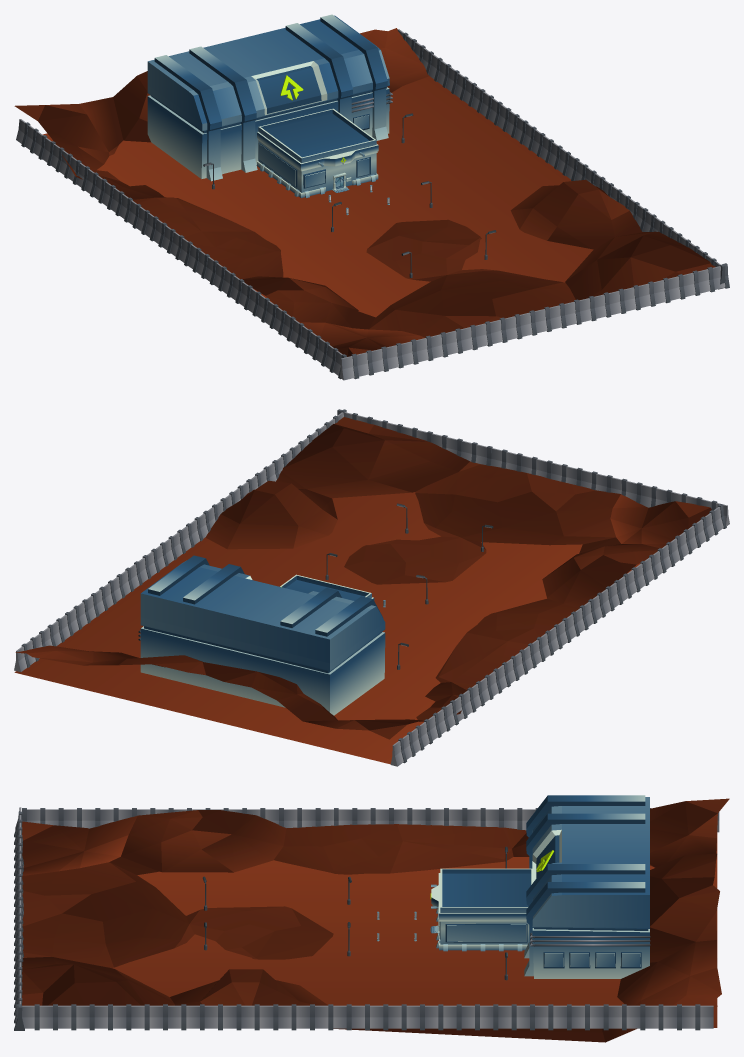
Rendered from Basural_V1.fbx.
3 renders of one model, top to bottom at view 1: azimuth 30°, elevation 25°; view 2: azimuth 150°, elevation 25°; view 3: azimuth 270°, elevation 25°, orthographic. The views are drawn at different scales.
Parts seen in each view (by area): view 1: Plane.014, Plane.068, Cube.089, Cube.087, Cube.047, Cube.090, Cube.088, Cube.058, Cube.059, Cube.081, Cube.096; view 2: Plane.014, Plane.068, Cube.089, Cube.047, Cube.090, Cube.087, Cube.058, Cube.059, Cube.088; view 3: Plane.014, Plane.068, Cube.090, Cube.089, Cube.047, Cube.088, Cube.058, Cube.059, Cube.087, Cube.048, Cube.081, Cube.085.
Part boxes in pixels (box(x1,y1,x2,y2)): Plane.014: box(14, 28, 715, 356); Plane.068: box(42, 76, 593, 317); Cube.089: box(147, 15, 389, 178); Cube.087: box(340, 263, 729, 380); Cube.047: box(16, 119, 346, 379); Cube.090: box(397, 29, 725, 289); Cube.088: box(258, 108, 376, 192); Cube.058: box(154, 14, 388, 181); Cube.059: box(189, 23, 352, 172); Cube.081: box(257, 131, 378, 171); Cube.096: box(258, 142, 297, 187); Plane.014: box(15, 417, 711, 739); Plane.068: box(14, 492, 640, 764); Cube.089: box(140, 560, 385, 715); Cube.047: box(390, 504, 726, 766); Cube.090: box(14, 409, 346, 671); Cube.087: box(337, 409, 729, 526); Cube.058: box(148, 555, 382, 636); Cube.059: box(183, 564, 341, 627); Cube.088: box(280, 574, 371, 600); Plane.014: box(22, 798, 729, 1042); Plane.068: box(23, 835, 717, 1027); Cube.090: box(16, 1004, 713, 1030); Cube.089: box(532, 797, 649, 978); Cube.047: box(22, 808, 719, 832); Cube.088: box(440, 868, 532, 944); Cube.058: box(524, 795, 645, 976); Cube.059: box(524, 813, 645, 958); Cube.087: box(14, 807, 24, 1030); Cube.048: box(445, 923, 527, 942); Cube.081: box(431, 873, 526, 921); Cube.085: box(439, 932, 527, 950).
Size of the model in its own units: 103 by 24.37 by 154.
